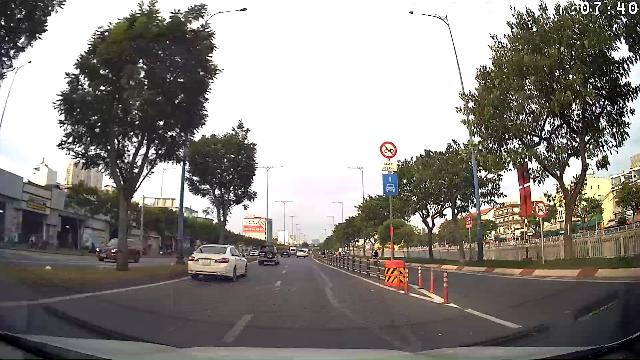103a-cam-oto: (534, 201, 547, 218)
